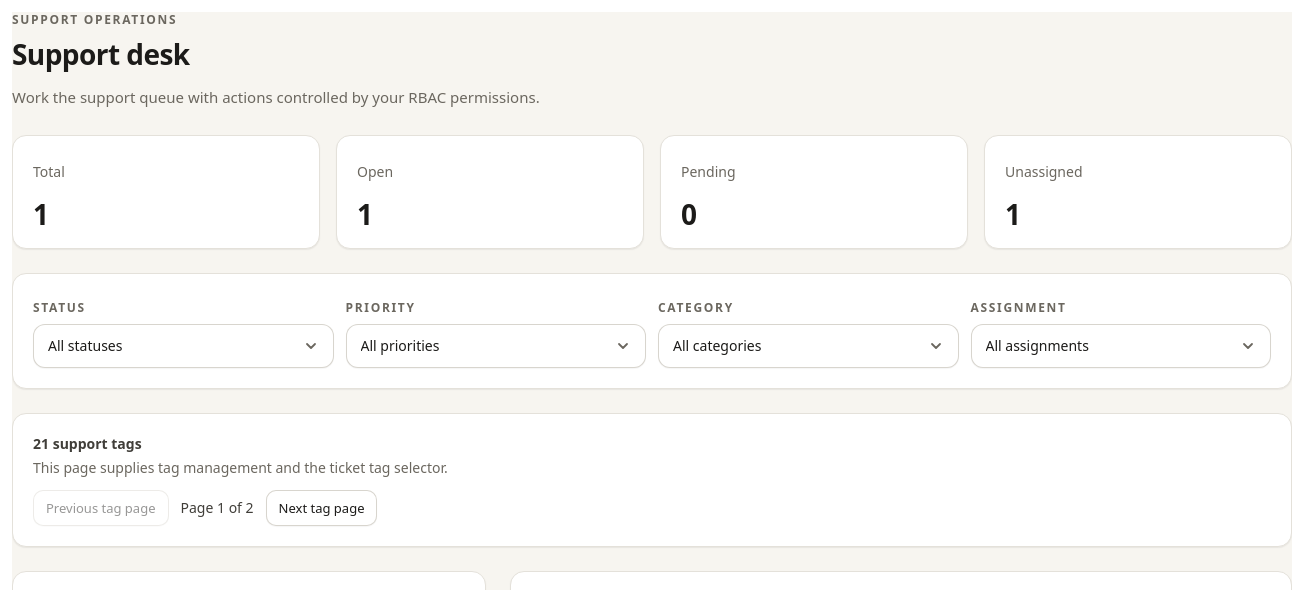
support tag pagination with backend response envelopes › retires a pending later-page success after navigating back
Expected: the text "21 support tags" is shown, [33,434,142,453]
Click the button "Next tag page" at (322, 508), box [266,490,378,526]
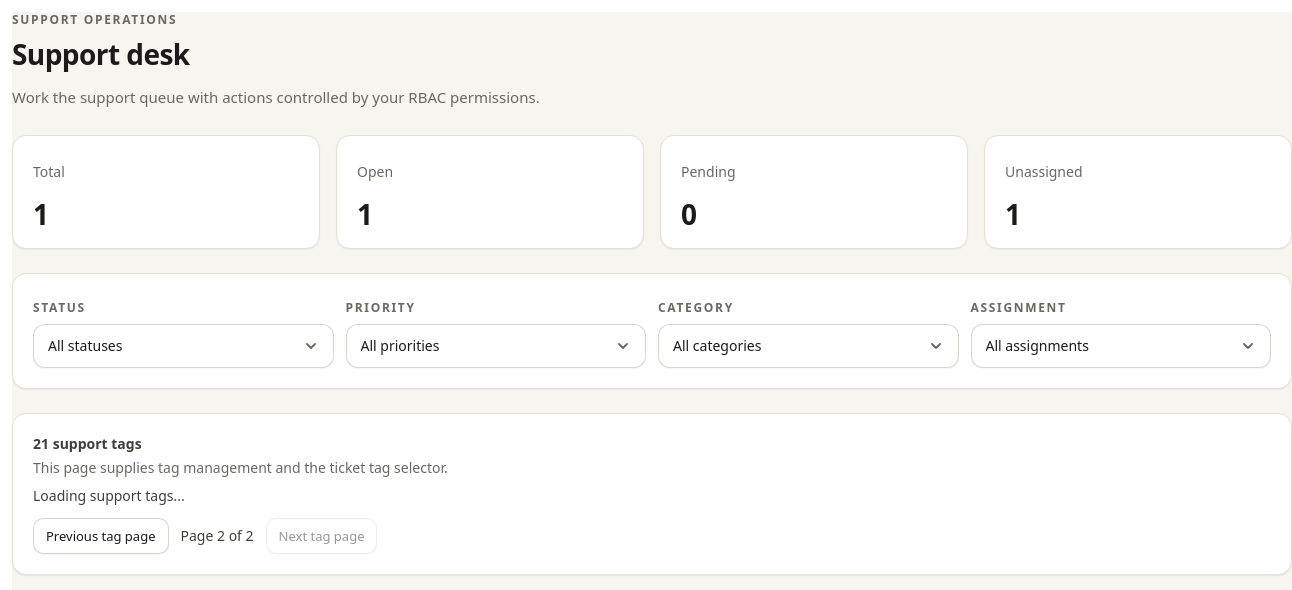
Click the button "Previous tag page" at (101, 536), box [33,518,168,554]
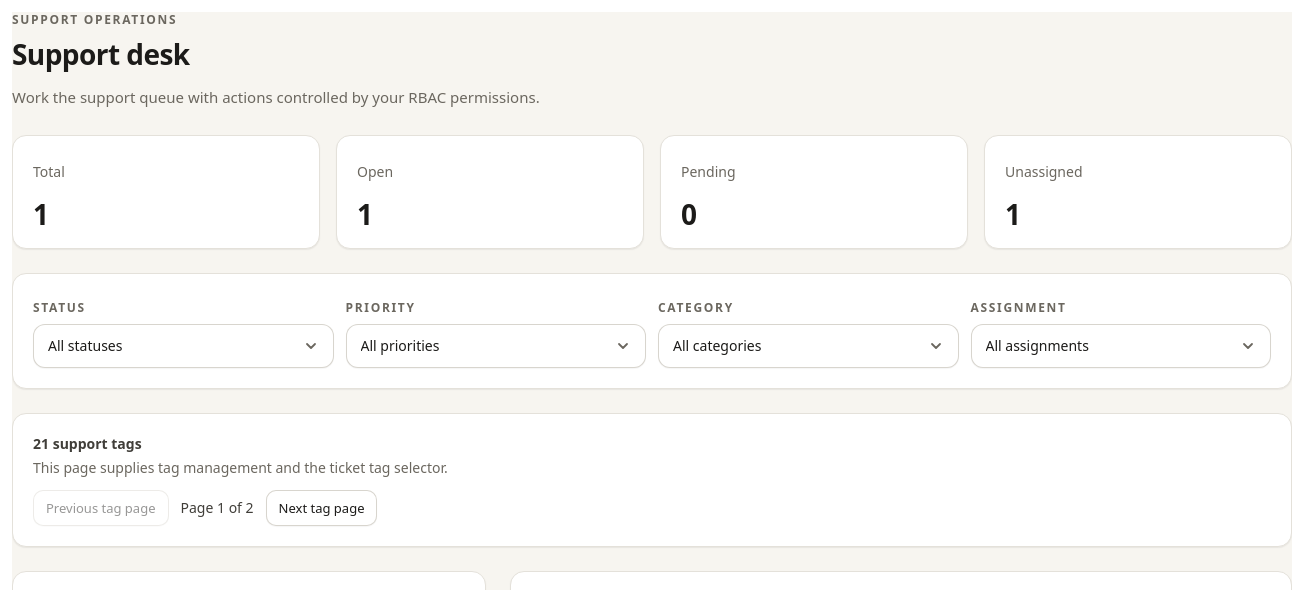
Result: the text "Page 1 of 2" is shown at [180,498,254,518]
Result: the message "Loading support tags..." is gone
Result: the text "Loading support tags..." is gone
